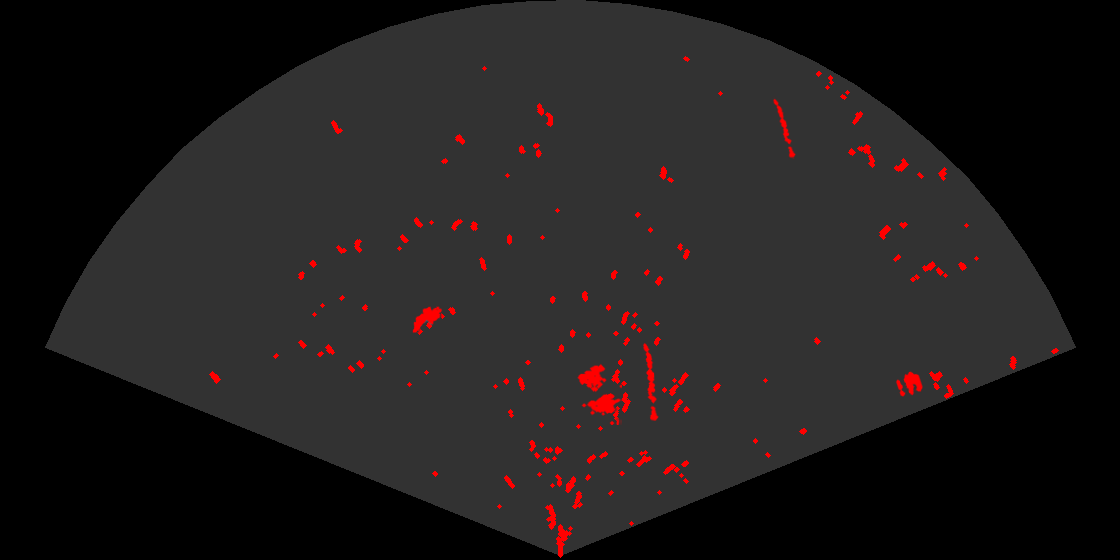AUV: (411, 305, 444, 335)
ball: (894, 370, 924, 398)
cage: (576, 362, 622, 425)
chain: (772, 96, 797, 159), (642, 341, 660, 421)
